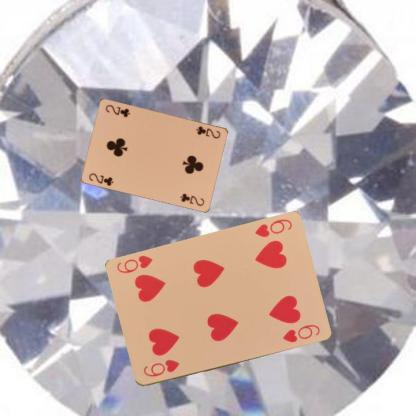2c: (193, 123, 222, 140), (87, 171, 115, 188)
6h: (252, 217, 293, 239), (140, 357, 180, 379)
